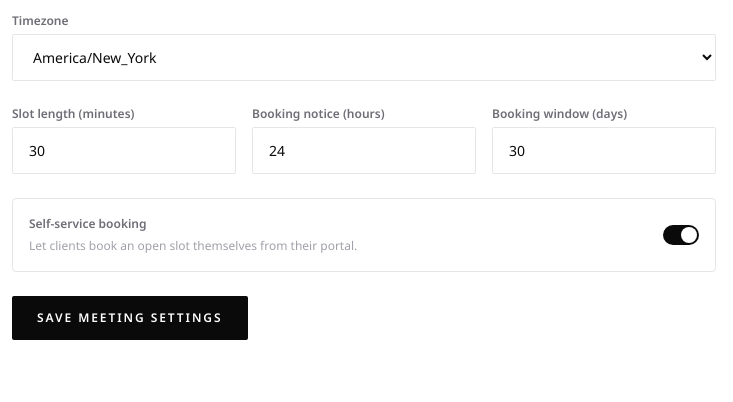
Test case: MeetingSettingsForm › saves the current settings, including the self-booking toggle
Click the switch named "Self-service booking" at (681, 235), box top-left (663, 225), bottom-right (699, 245)
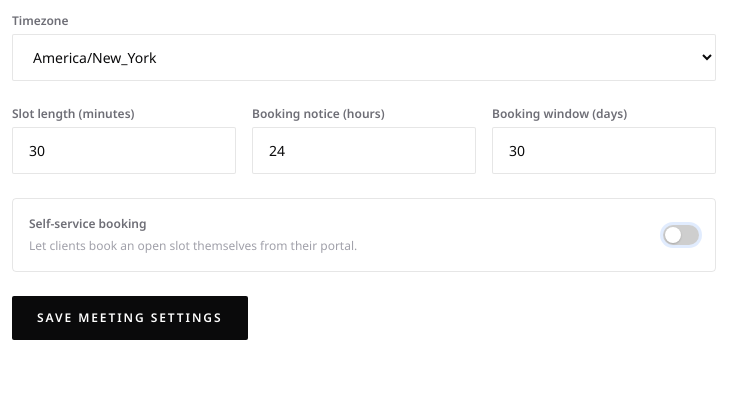
Click the button "Save meeting settings" at (130, 318), box top-left (12, 296), bottom-right (248, 340)
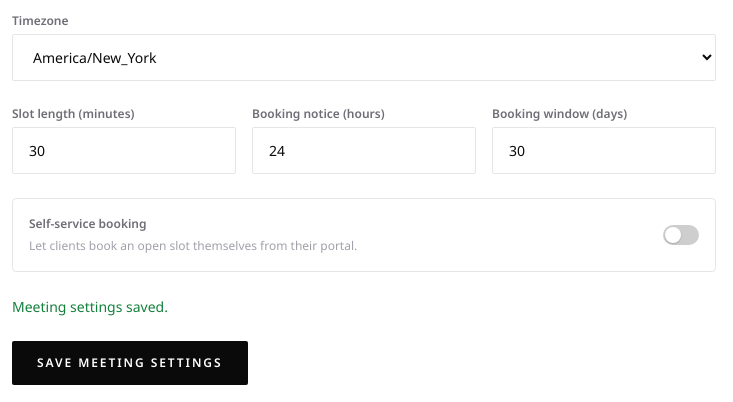
Check: the text "Meeting settings saved." is shown, box top-left (12, 297), bottom-right (168, 316)
